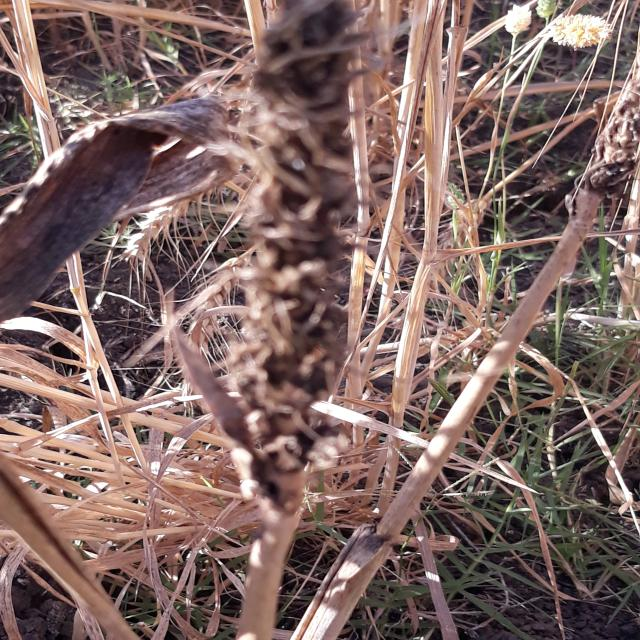loose_charred: (209, 0, 428, 564), (0, 98, 232, 321), (562, 31, 640, 319)
